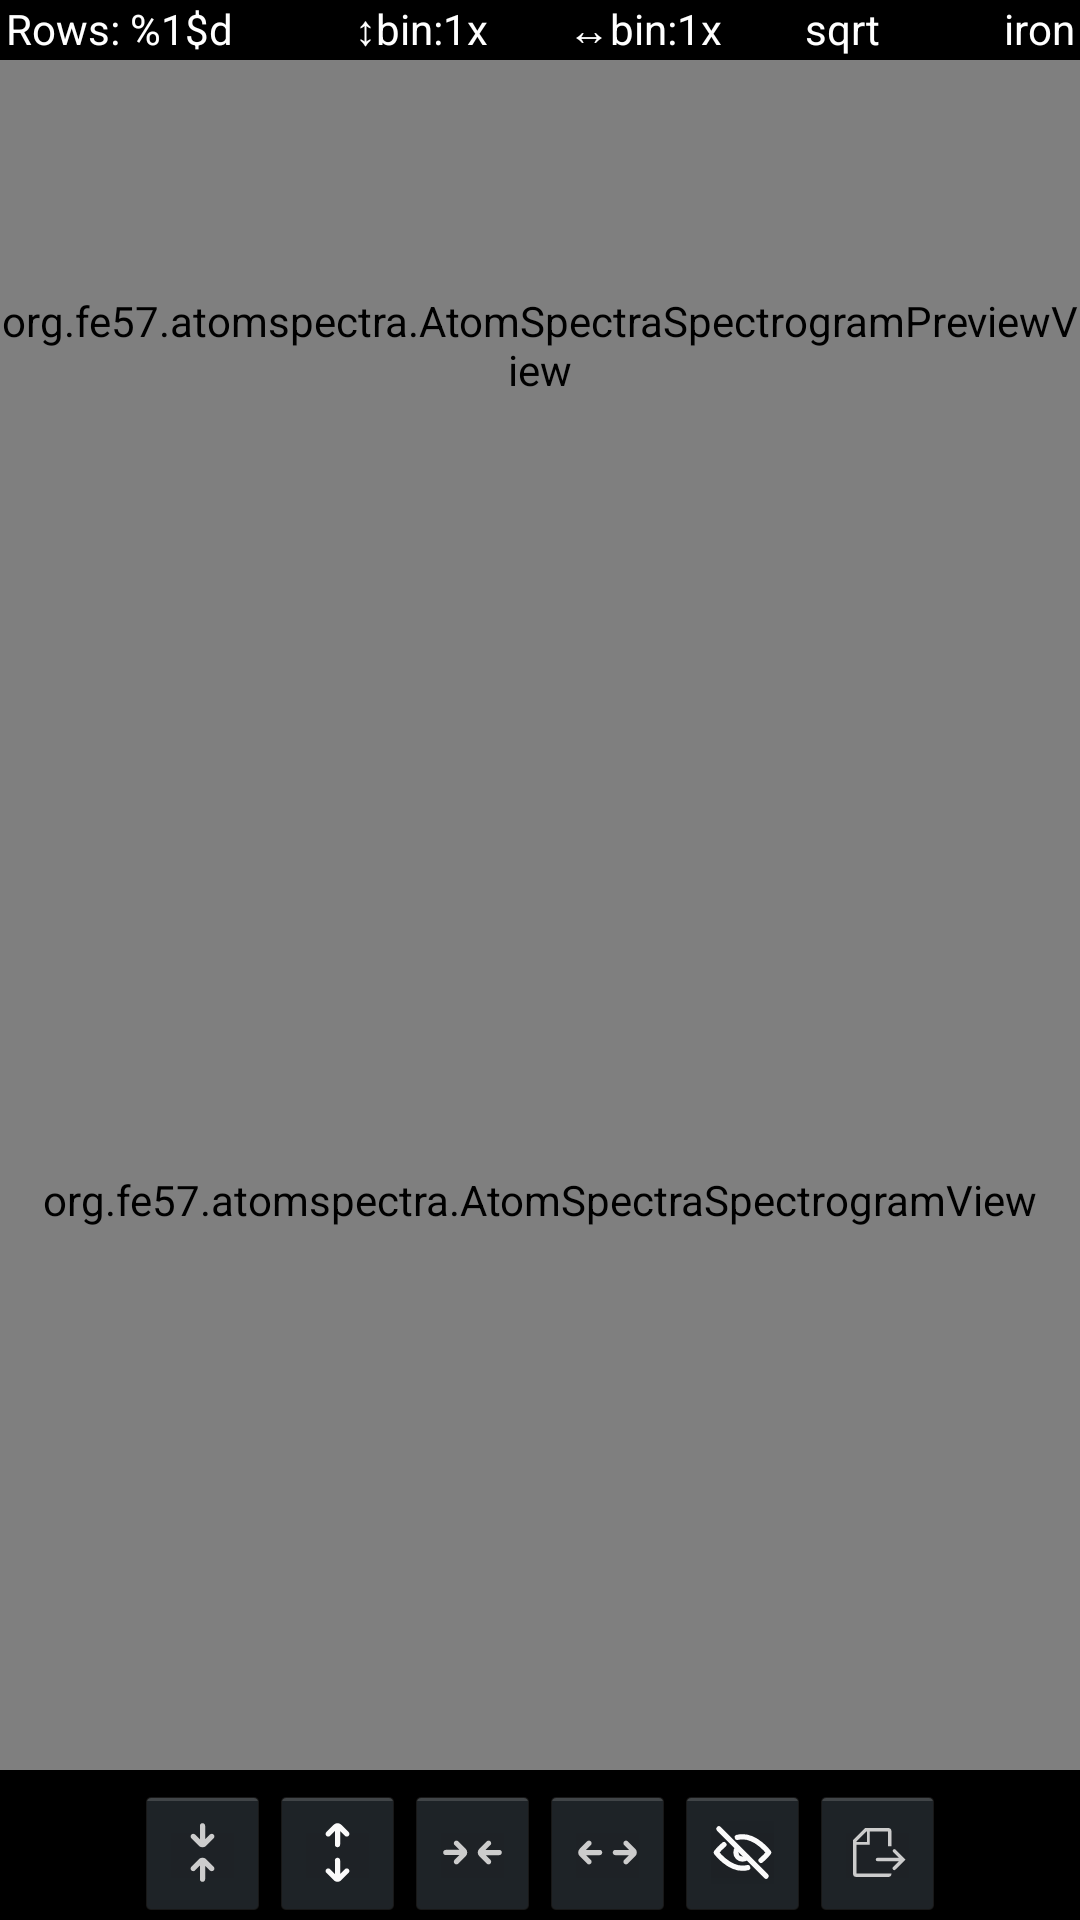

Screen size 1080*1920. Icon name, then its center in pixels as [x,y]:
spg channel bin dec: [607,1853]
spg channel bin inc: [472,1853]
spg spectrum bin dec: [337,1853]
spg spectrum bin inc: [202,1853]
spg spectrum close: [742,1853]
spg spectrum export: [877,1853]
